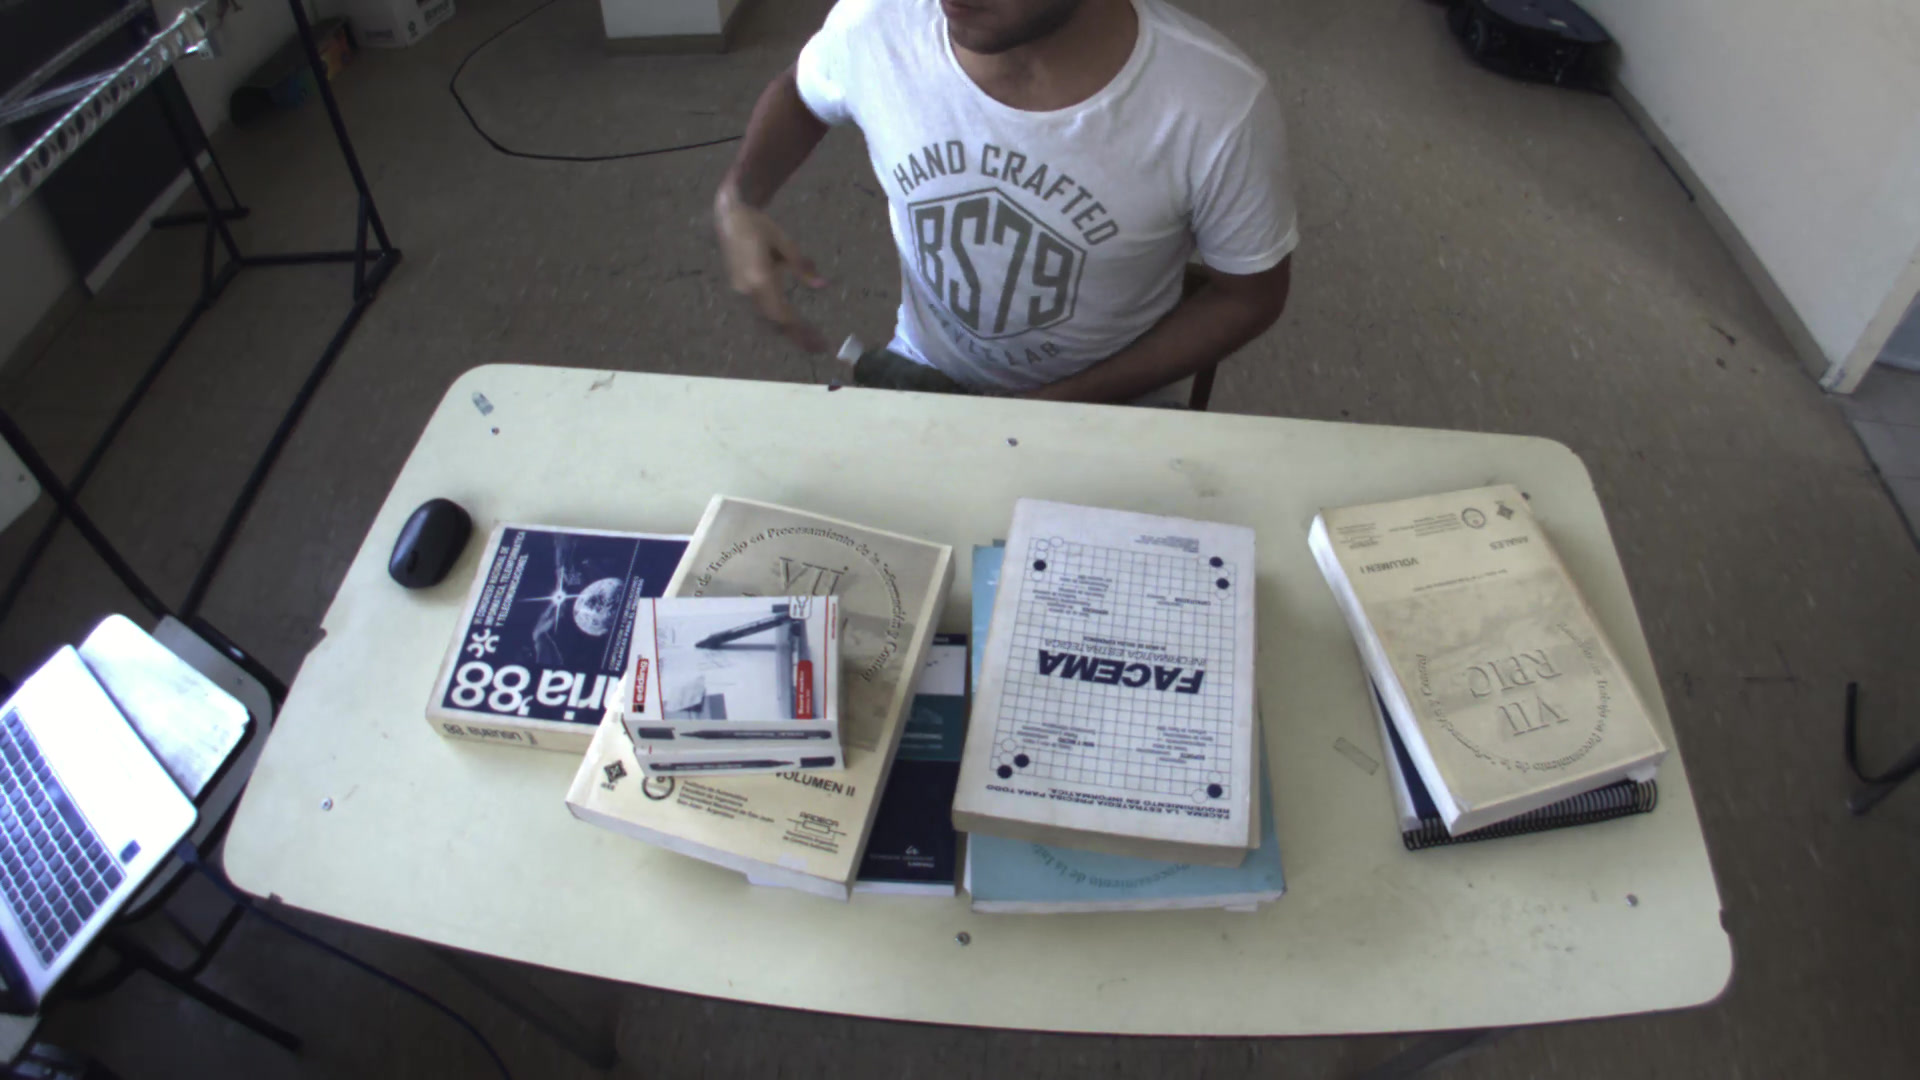hand: (704, 200, 843, 351)
